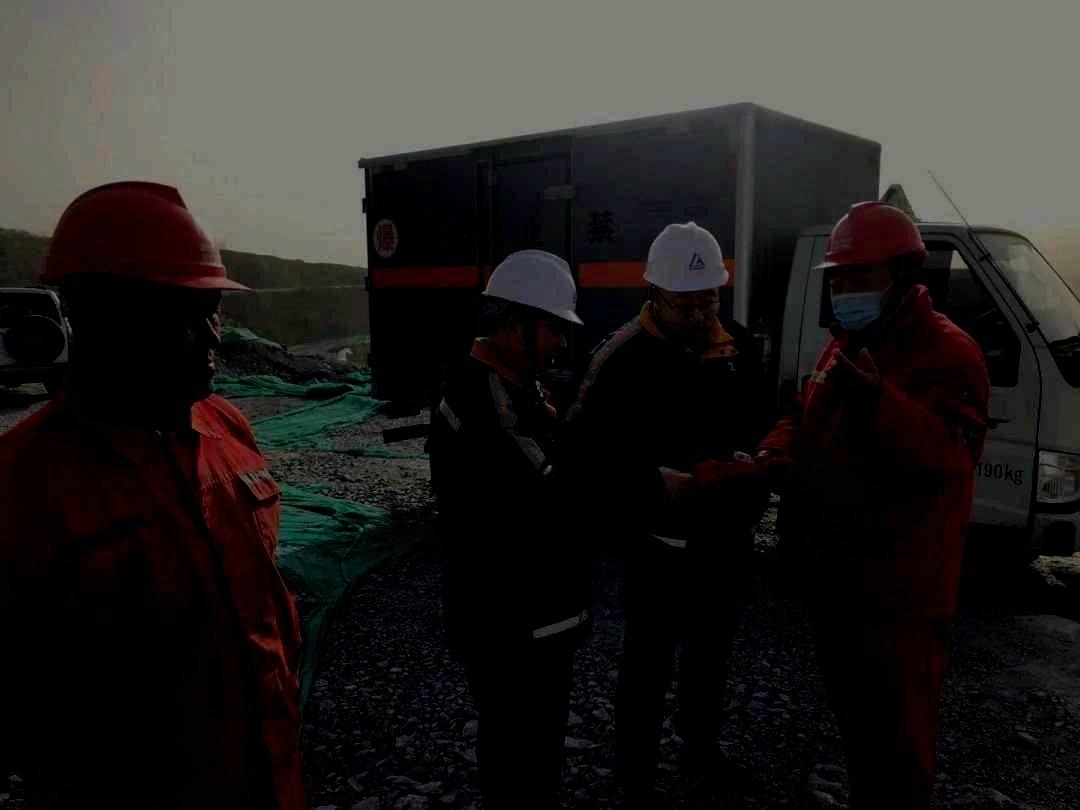helmet: (38, 180, 257, 402), (811, 200, 929, 334), (481, 249, 584, 371), (643, 220, 730, 341)
